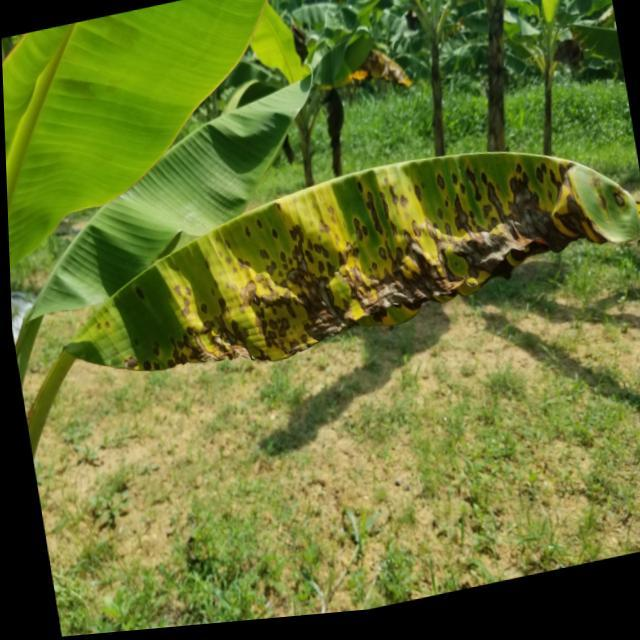Early_rust: (77, 144, 640, 389), (296, 0, 438, 115)
